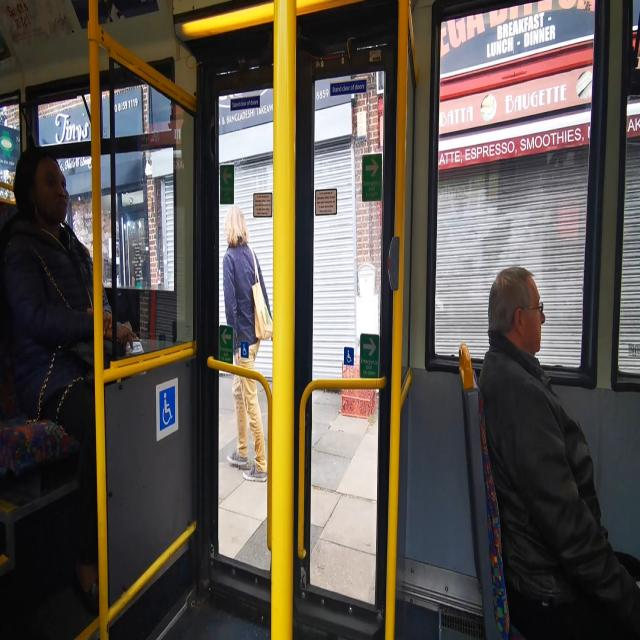bus-door: (183, 22, 390, 632)
